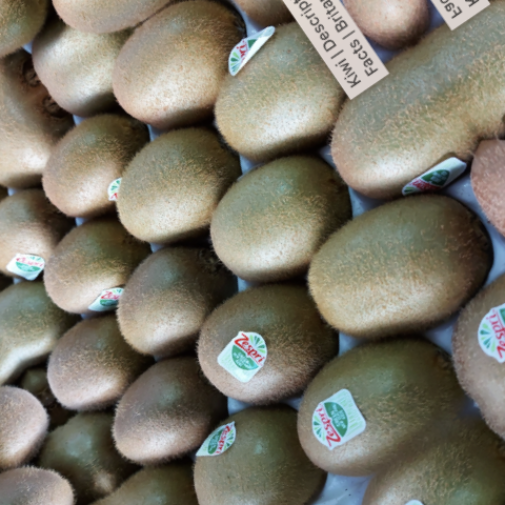kiwi: (263, 148, 505, 398), (259, 301, 475, 505), (292, 43, 499, 250), (169, 0, 385, 198), (81, 0, 295, 162), (80, 97, 270, 277), (77, 326, 261, 500), (173, 257, 351, 425), (16, 91, 181, 247), (17, 191, 171, 342), (81, 231, 232, 377)
